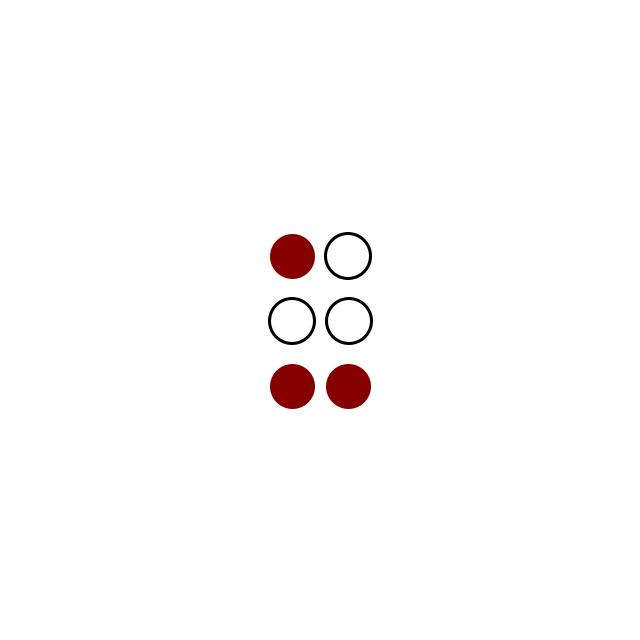U: (268, 229, 374, 411)
